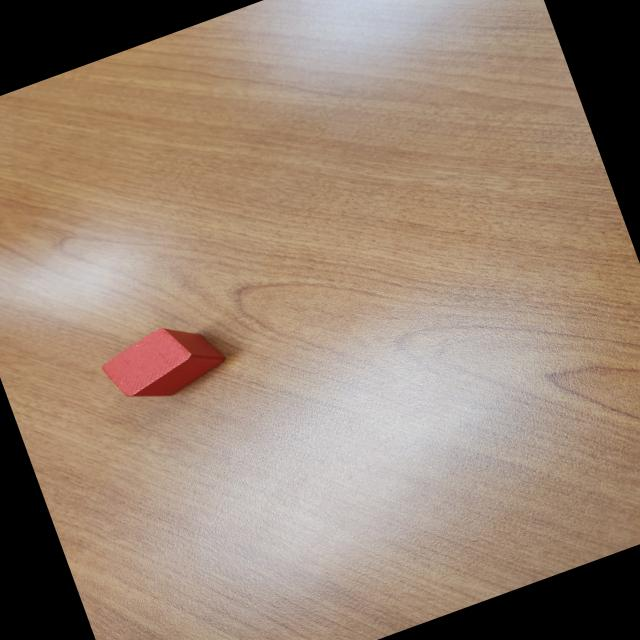red: (97, 311, 232, 414)
